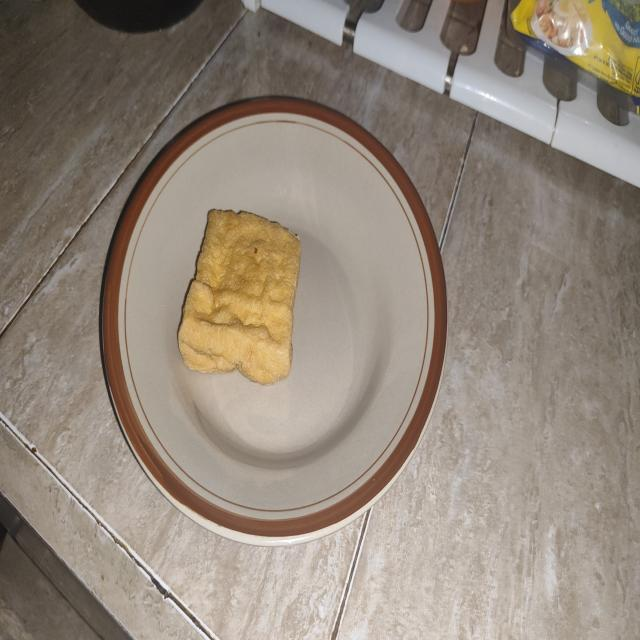tahu_goreng: (178, 210, 301, 384)
